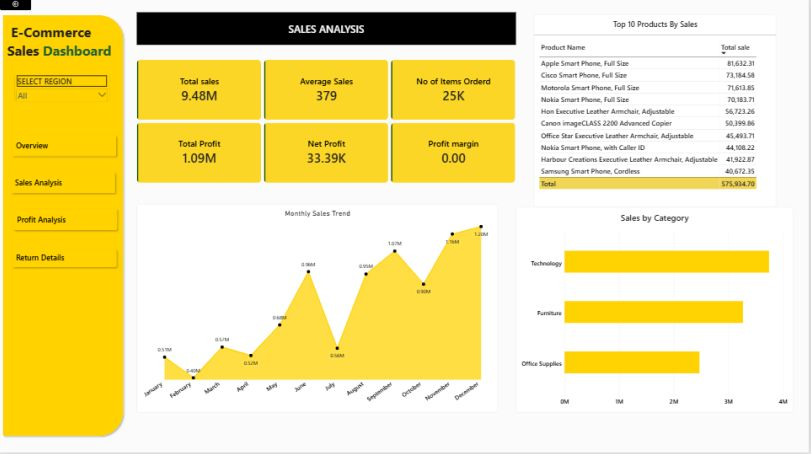

What the dashboard file says about the page in this screenshot:
{"tool":"powerbi","page":{"name":"Sales Analysis","canvas":[2560,1440],"ordinal":1},"visuals":[{"type":"actionButton","box":[0,0,100,40],"z":12},{"type":"lineChart","title":"Monthly Sales Trend","fields":{"Category":["Orders.Order Date.Variation.Date Hierarchy.Month"],"Y":["Orders.Total sale"]},"box":[433.3,653.3,1143.3,660],"z":15},{"type":"tableEx","title":"Top 10 Products By Sales","fields":{"Values":["Orders.Product Name","Orders.Total sale"]},"box":[1690,53.3,766.7,610],"z":16},{"type":"clusteredBarChart","title":"Sales by  Category","fields":{"Category":["Orders.Category"],"Y":["Orders.Total sale"]},"box":[1633.3,663.3,876.7,650],"z":17},{"type":"cardVisual","fields":{"Data":["Orders.Total sale","Orders.Average Sale","Orders.No of Items Orderd","Orders.Total Profit","Orders.Net Profit","Orders.Profit margin"]},"box":[433.3,196.7,1200,390],"z":19},{"type":"shape","box":[0,46.7,400,1350],"z":20},{"type":"textbox","box":[23.3,80,350,136.7],"z":21},{"type":"slicer","fields":{"Values":["Orders.Region"]},"box":[46.7,246.7,300,81.1],"z":22},{"type":"actionButton","box":[30,786.7,348.6,75.7],"z":23},{"type":"actionButton","box":[26.7,543.3,347.5,85],"z":24},{"type":"actionButton","box":[33.3,660,347.5,85],"z":25},{"type":"actionButton","box":[30,426.7,347.5,85],"z":26},{"type":"shape","box":[433.3,46.7,1200,103.3],"z":27}]}

Visuals, with their boxes on the page's 2560x1440 design canvas (x1, y1, x2, y2). These are canvas units, not pixel positions in the 811x454 screenshot, which may show the page scaled, cropped or inside an application window:
actionButton: (x1=0, y1=0, x2=100, y2=40)
"Monthly Sales Trend" lineChart: (x1=433, y1=653, x2=1577, y2=1313)
"Top 10 Products By Sales" tableEx: (x1=1690, y1=53, x2=2457, y2=663)
"Sales by  Category" clusteredBarChart: (x1=1633, y1=663, x2=2510, y2=1313)
cardVisual - Orders.Total sale x Orders.Average Sale: (x1=433, y1=197, x2=1633, y2=587)
shape: (x1=0, y1=47, x2=400, y2=1397)
textbox: (x1=23, y1=80, x2=373, y2=217)
slicer - Orders.Region: (x1=47, y1=247, x2=347, y2=328)
actionButton: (x1=30, y1=787, x2=379, y2=862)
actionButton: (x1=27, y1=543, x2=374, y2=628)
actionButton: (x1=33, y1=660, x2=381, y2=745)
actionButton: (x1=30, y1=427, x2=378, y2=512)
shape: (x1=433, y1=47, x2=1633, y2=150)
